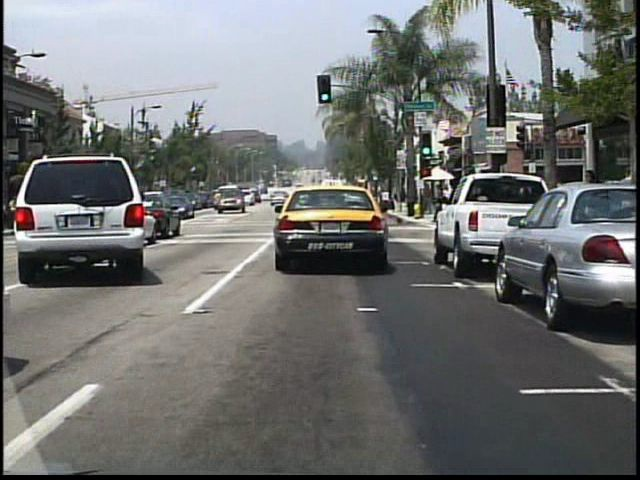person: (579, 167, 602, 250), (422, 181, 433, 217)
